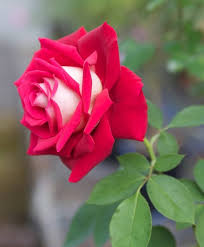rose: (12, 24, 151, 185)
